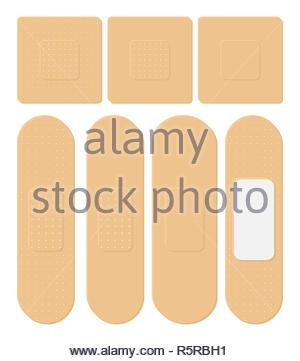bandage: (154, 114, 218, 324), (16, 114, 76, 324), (224, 115, 284, 325), (88, 117, 145, 325), (198, 17, 285, 103), (17, 14, 101, 103), (109, 16, 193, 104)
